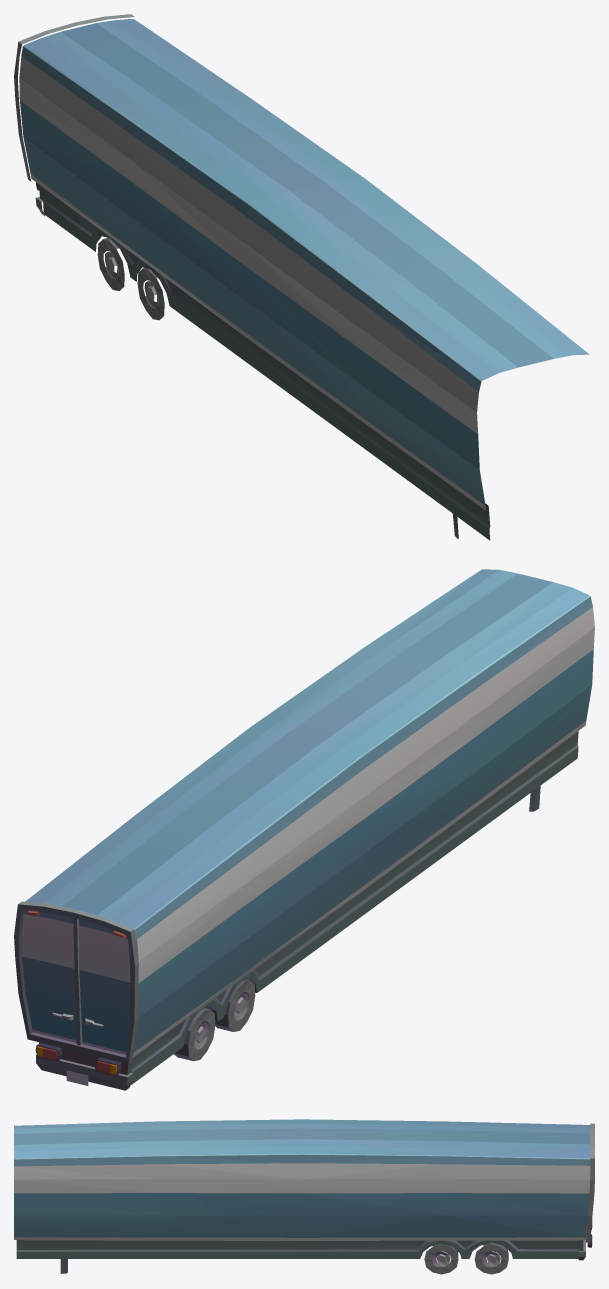
Rendered from city_double8_truckTrailor01.glb.
3 renders of one model, top to bottom at view 1: azimuth 30°, elevation 25°; view 2: azimuth 150°, elevation 25°; view 3: azimuth 270°, elevation 25°, orthographic. The views are drawn at different scales.
Parts seen in each view (by area): view 1: city_double8_truckTrailor01; view 2: city_double8_truckTrailor01; view 3: city_double8_truckTrailor01.
Boxes of the visible parts, <box> form: city_double8_truckTrailor01: <box>14,14,589,540</box>; city_double8_truckTrailor01: <box>14,569,594,1090</box>; city_double8_truckTrailor01: <box>14,1119,594,1274</box>.
Size of the model in its own units: 1.2 by 1.89 by 7.79.
